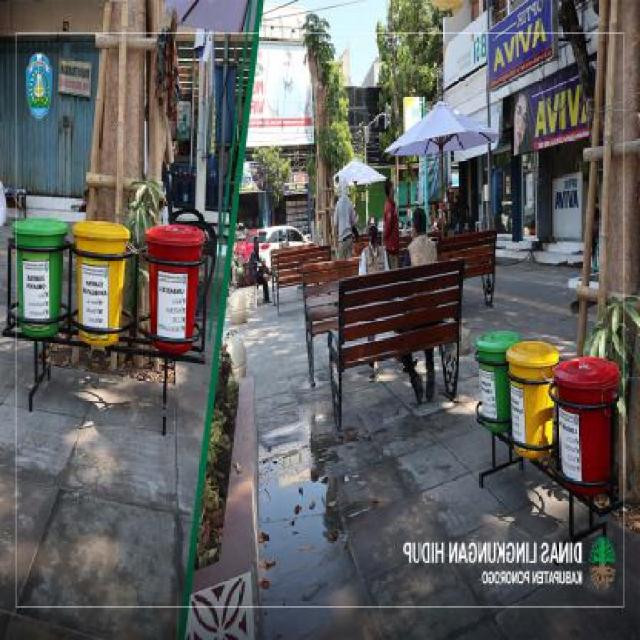garbage container: (142, 214, 212, 371), (555, 345, 622, 497), (71, 219, 134, 359), (12, 208, 72, 352), (506, 332, 559, 468), (471, 321, 522, 436)
